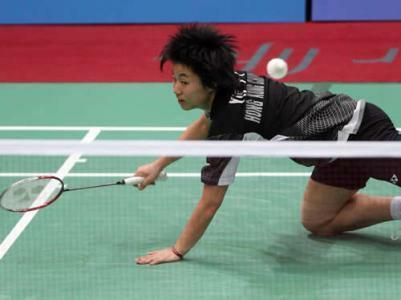Fall-Detected: (125, 14, 394, 276)
